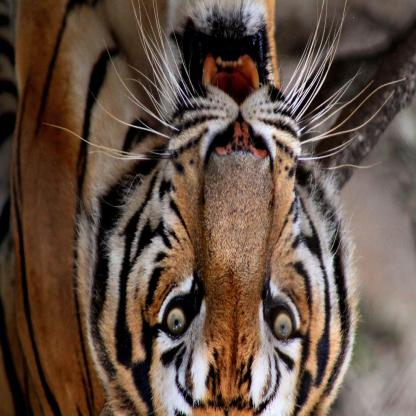tiger: (66, 13, 369, 416)
